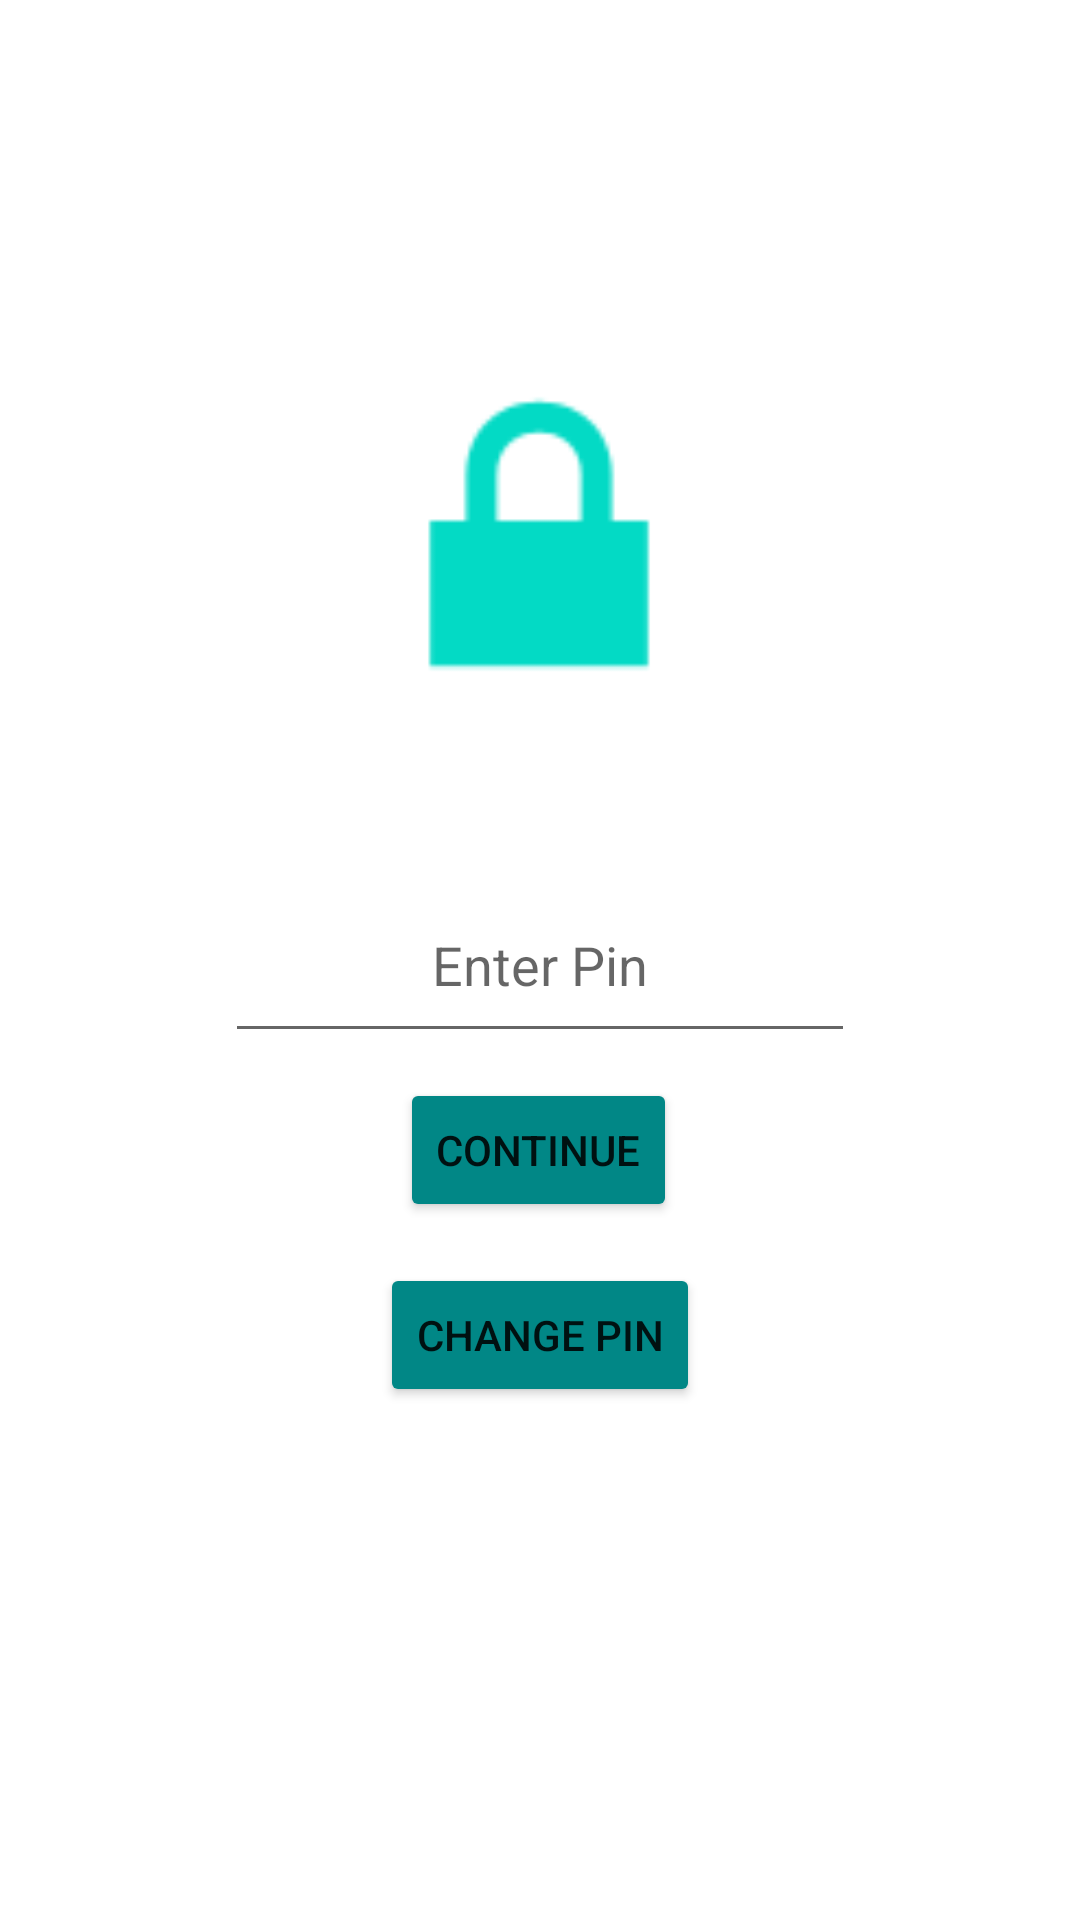

Locate icon controls on the screen. Image size 1080×1920, boxes as bbox=(x1, y1, x2, y2).
lock: bbox=(428, 398, 650, 670)
